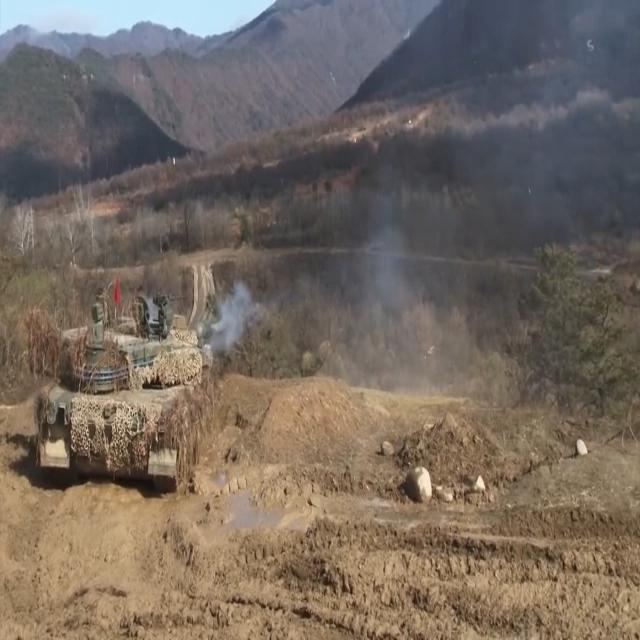korea tank: (23, 286, 268, 500)
